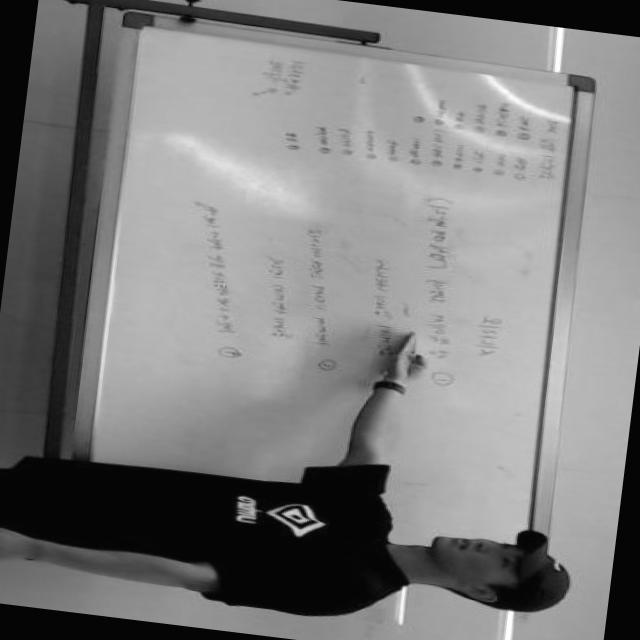Instructor: (0, 451, 593, 640)
White-board: (70, 14, 583, 592)
